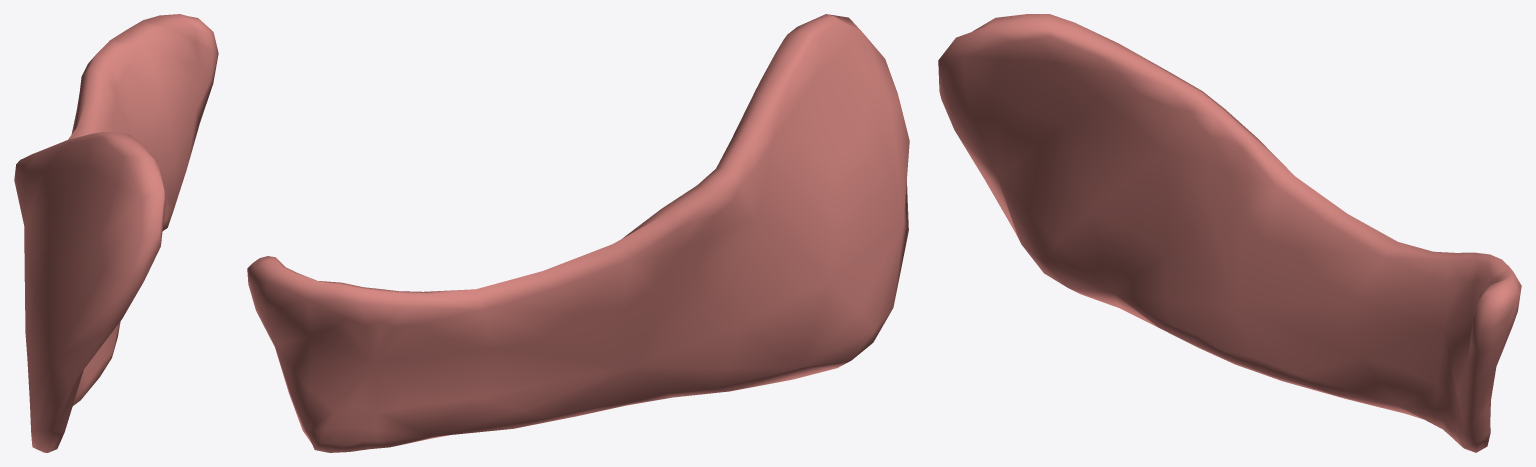
3 renders of one model, left to right at view 1: azimuth 30°, elevation 25°; view 2: azimuth 150°, elevation 25°; view 3: azimuth 270°, elevation 25°, orthographic. The views are drawn at different scales.
Visible parts, largest first — view 1: ZA_c59a606c9584bc7f; view 2: ZA_c59a606c9584bc7f; view 3: ZA_c59a606c9584bc7f.
Boxes of the visible parts, bbox=[...] form: ZA_c59a606c9584bc7f: bbox=[14, 14, 218, 452]; ZA_c59a606c9584bc7f: bbox=[247, 14, 909, 452]; ZA_c59a606c9584bc7f: bbox=[938, 14, 1521, 452].
Bounding box in the file's own units: 0.00623 × 0.00473 × 0.008.
